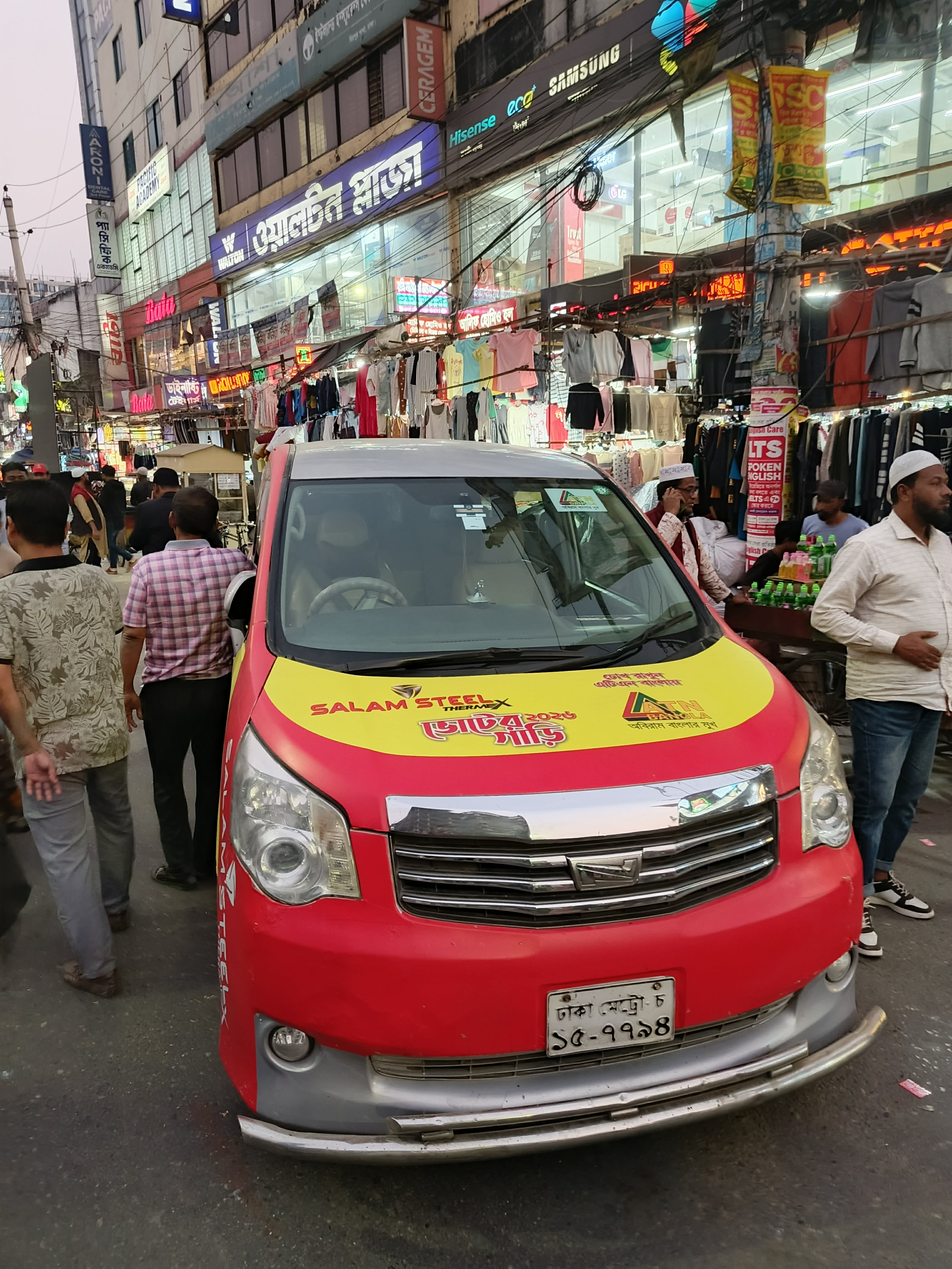private car: (169, 269, 947, 1162)
